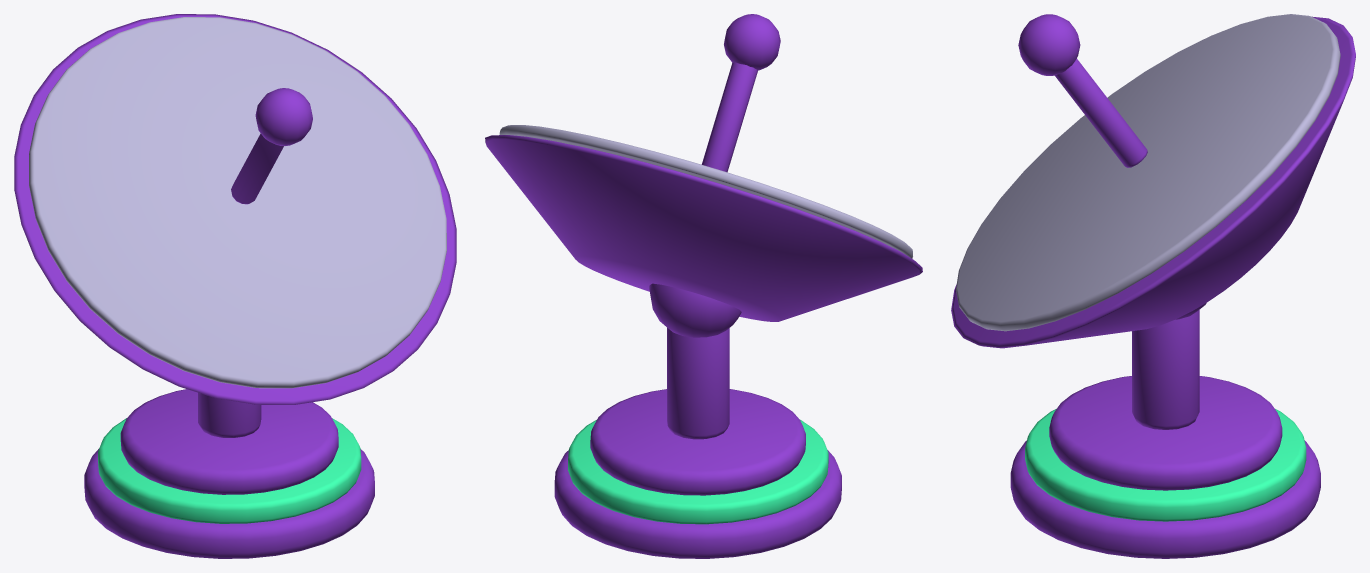
Rendered from Orbital_Satellite.fbx.
The picture shows the model from 3 angles, left to right: view 1: azimuth 30°, elevation 25°; view 2: azimuth 150°, elevation 25°; view 3: azimuth 270°, elevation 25°; orthographic projection. The views are drawn at different scales.
Visible parts, largest first — view 1: Lilac, Orbit, Neon_Mint; view 2: Orbit, Neon_Mint, Lilac; view 3: Orbit, Lilac, Neon_Mint.
Boxes of the visible parts, x1=… form: Lilac: x1=29, y1=17, x2=446, y2=388; Orbit: x1=14, y1=14, x2=456, y2=558; Neon_Mint: x1=98, y1=418, x2=361, y2=523; Orbit: x1=485, y1=14, x2=922, y2=558; Neon_Mint: x1=568, y1=419, x2=828, y2=524; Lilac: x1=499, y1=125, x2=912, y2=258; Orbit: x1=951, y1=14, x2=1355, y2=558; Lilac: x1=956, y1=14, x2=1340, y2=331; Neon_Mint: x1=1025, y1=409, x2=1306, y2=521.
Size of the model in its own units: 9.17 by 9.85 by 7.51.
